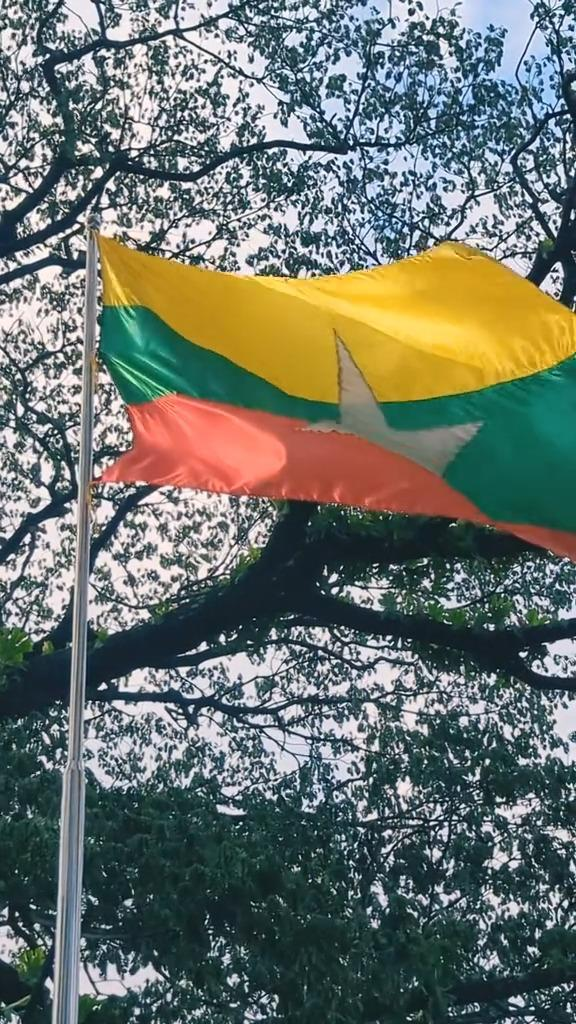Myanmar: (94, 238, 576, 560)
